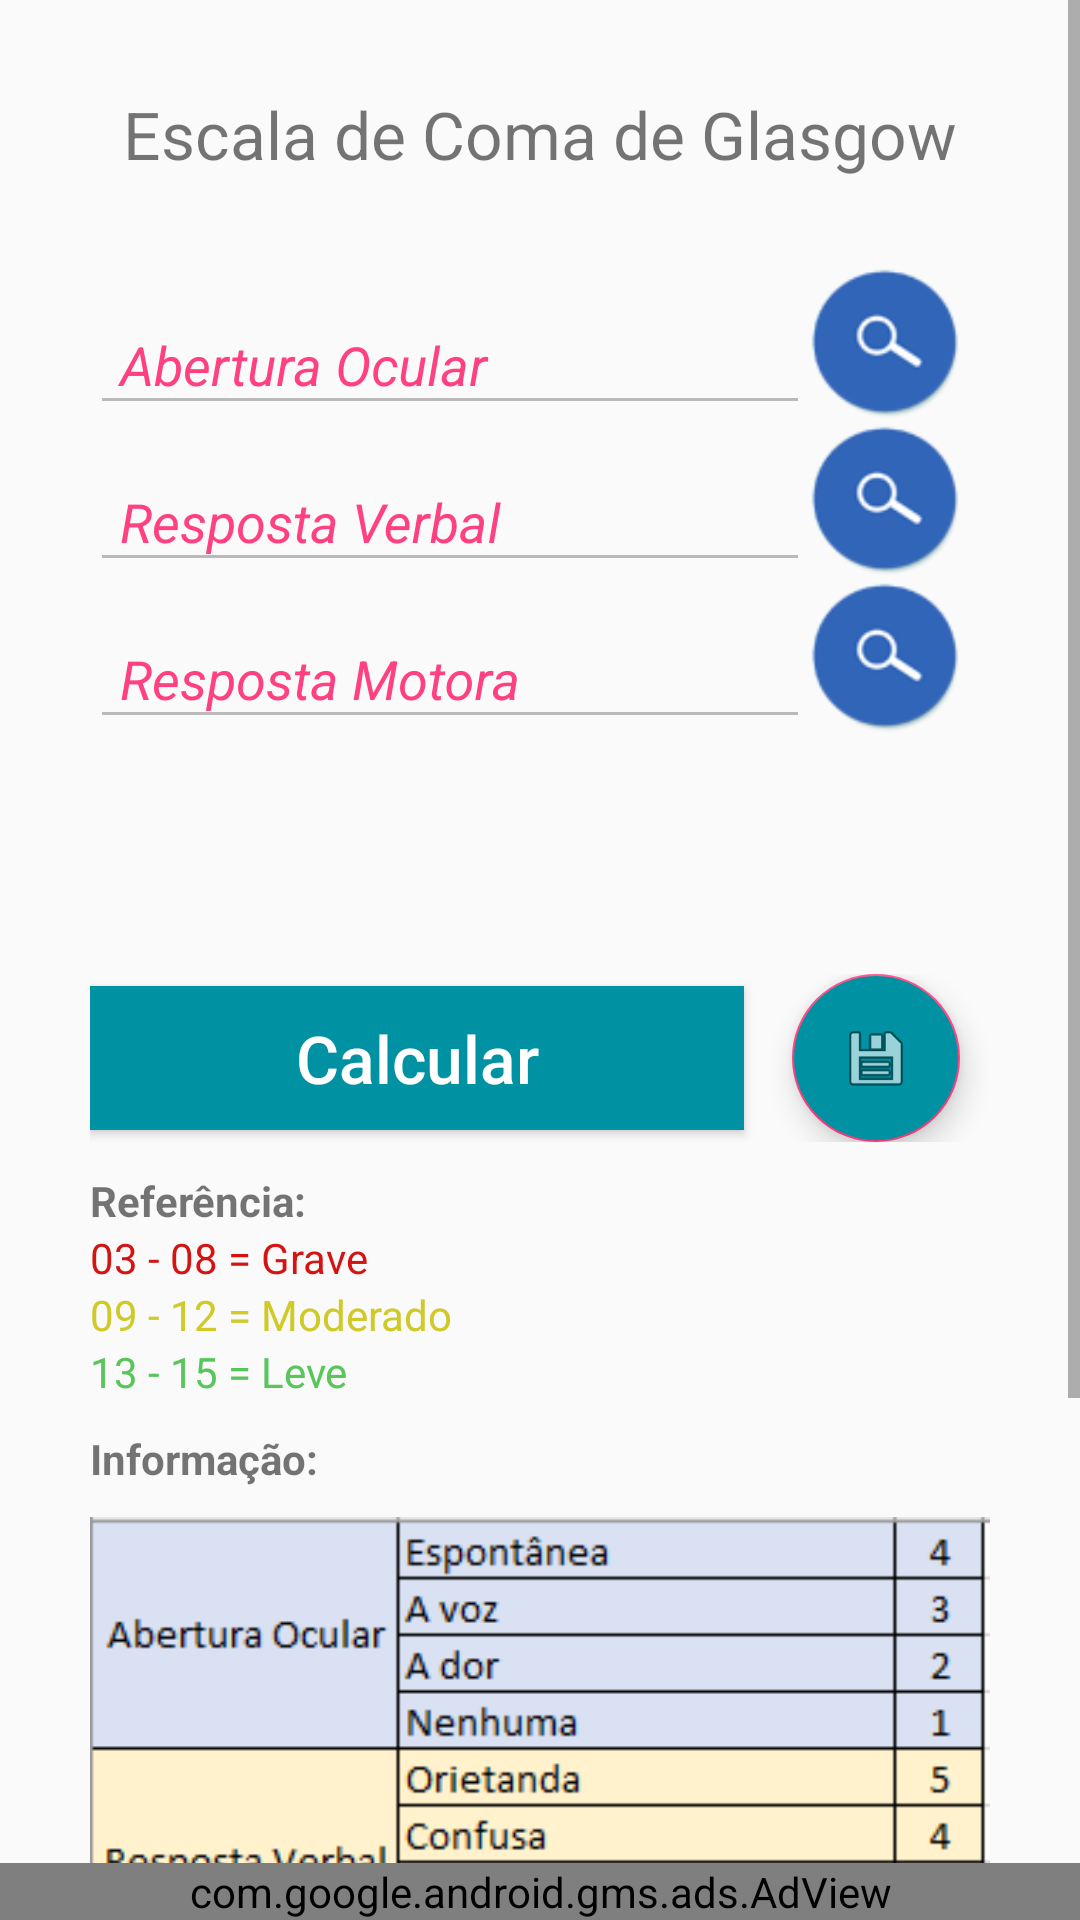

Where to tap for icons on this 1080px x 1920px app screen, as [x,y]:
save: [876,1058]
search: [885,342], [885,499], [885,656]
